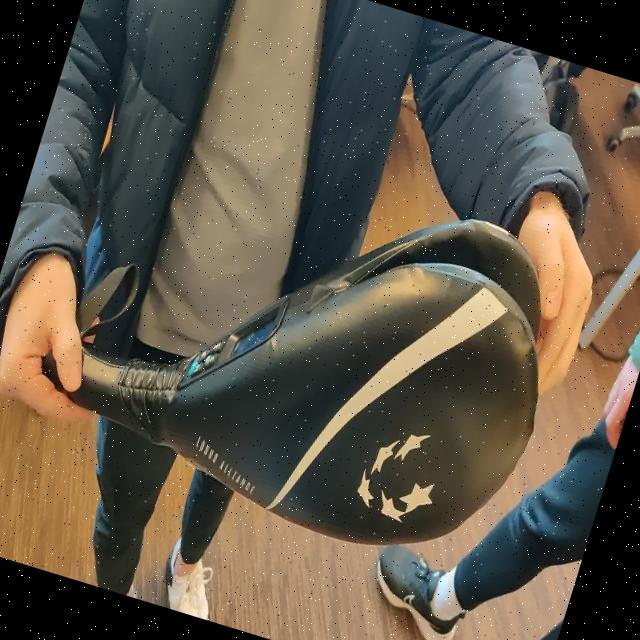paddle: (57, 216, 538, 552)
